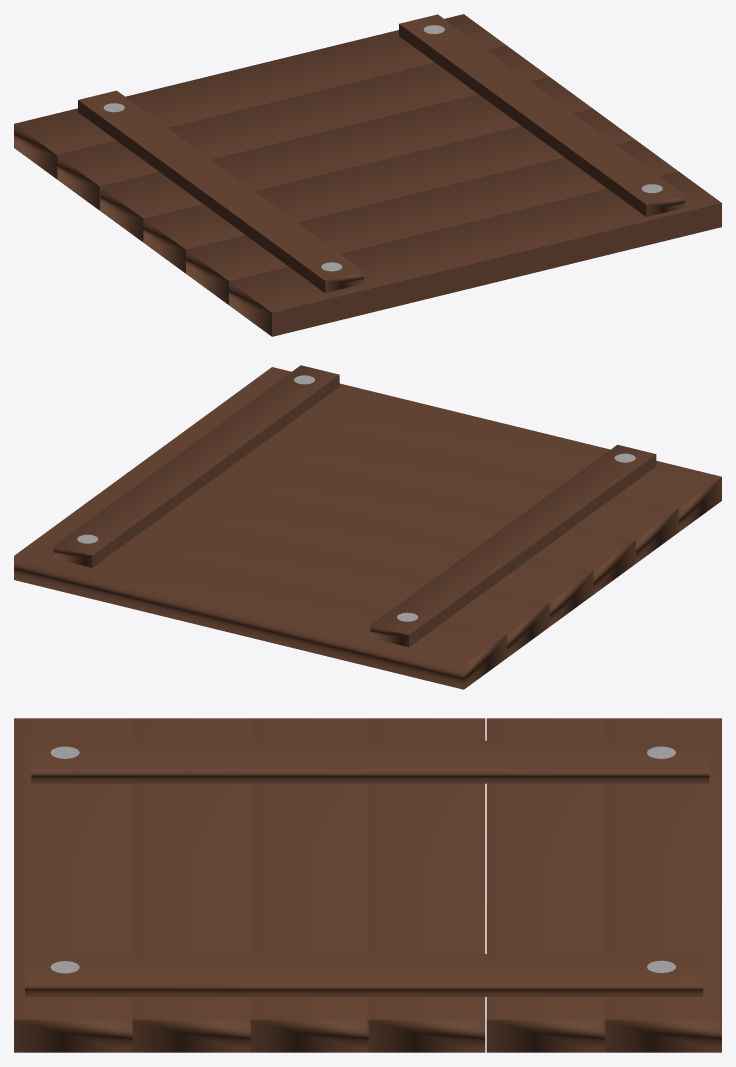
File: Holzkiste_Deckel.fbx
The picture shows the model from 3 angles, top to bottom: view 1: azimuth 30°, elevation 25°; view 2: azimuth 150°, elevation 25°; view 3: azimuth 270°, elevation 25°; orthographic projection. The views are drawn at different scales.
Visible parts, largest first — view 1: polySurface114; view 2: polySurface114; view 3: polySurface114.
Boxes of the visible parts, <box> form: polySurface114: <box>14,14,721,336</box>; polySurface114: <box>14,365,721,689</box>; polySurface114: <box>14,718,721,1052</box>.
Size of the model in its own units: 100 by 7.92 by 99.38.
